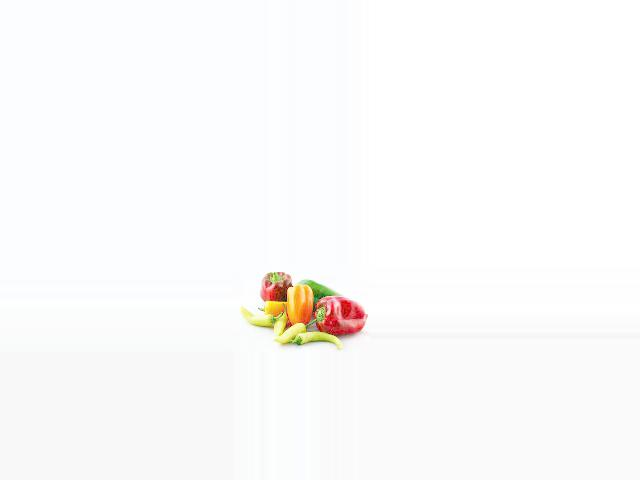bell_pepper: (287, 332, 346, 348)
